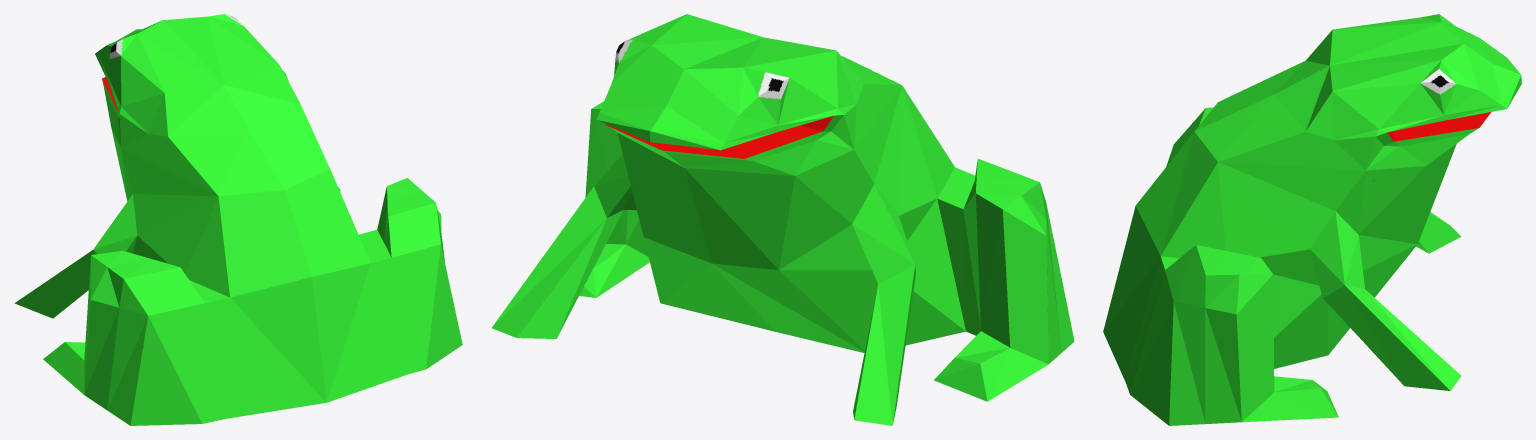
File: Frog.obj
The picture shows the model from 3 angles, left to right: view 1: azimuth 30°, elevation 25°; view 2: azimuth 150°, elevation 25°; view 3: azimuth 270°, elevation 25°; orthographic projection. The views are drawn at different scales.
Parts seen in each view (by area): view 1: 立方体_立方体.004; view 2: 立方体_立方体.004; view 3: 立方体_立方体.004.
Boxes of the visible parts, x1=… form: 立方体_立方体.004: x1=14, y1=14, x2=462, y2=425; 立方体_立方体.004: x1=492, y1=14, x2=1074, y2=425; 立方体_立方体.004: x1=1103, y1=14, x2=1521, y2=425.
Size of the model in its own units: 2.69 by 1.93 by 2.48.
1 material, 1 textured.
